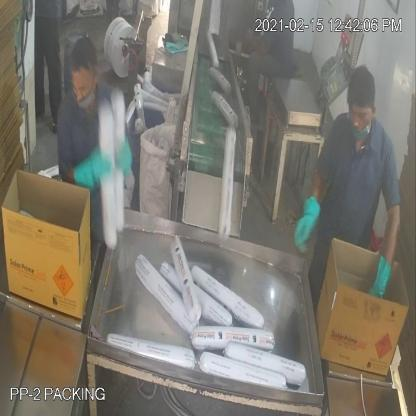glove: (285, 184, 326, 268), (68, 138, 113, 201), (366, 256, 394, 312)
no_glove: (244, 26, 273, 61)
